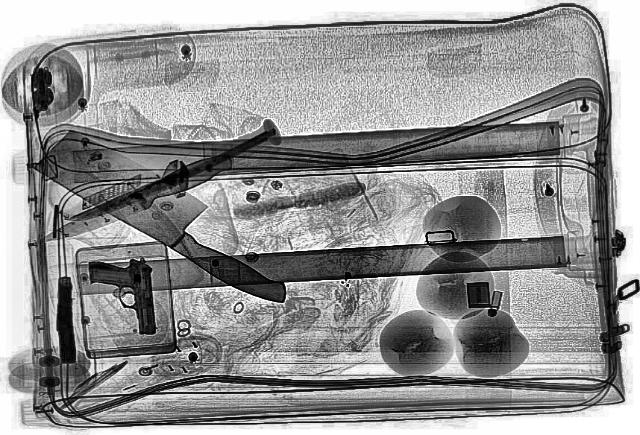Gun: (86, 258, 154, 334), (56, 276, 76, 362)
Knife: (26, 129, 328, 311), (37, 150, 245, 246), (123, 116, 297, 210)
